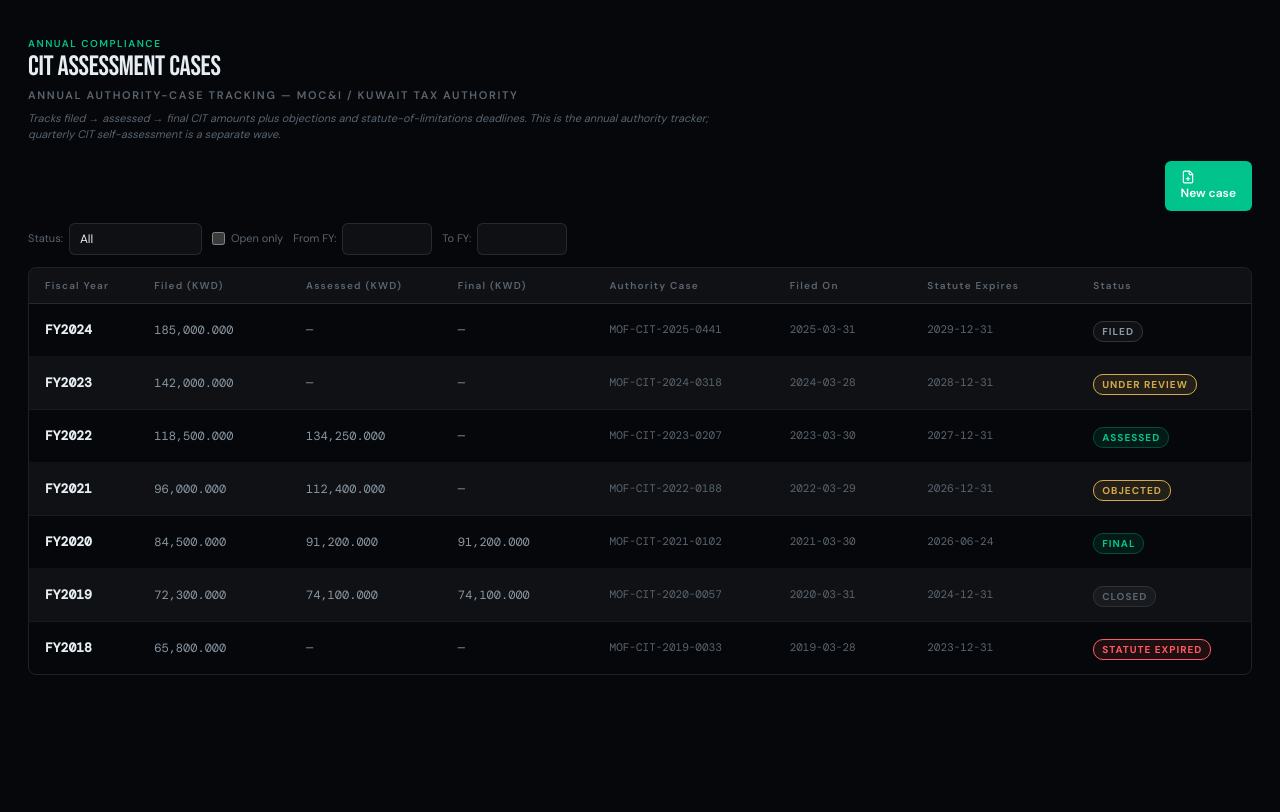
it: CITAssessmentScreen — per-case detail › ASSESSED: shows Record Objection + Finalize
Click the button with aria-label "Open case" at (640, 436), box 29,410 -> 1251,462
(page scrolled)
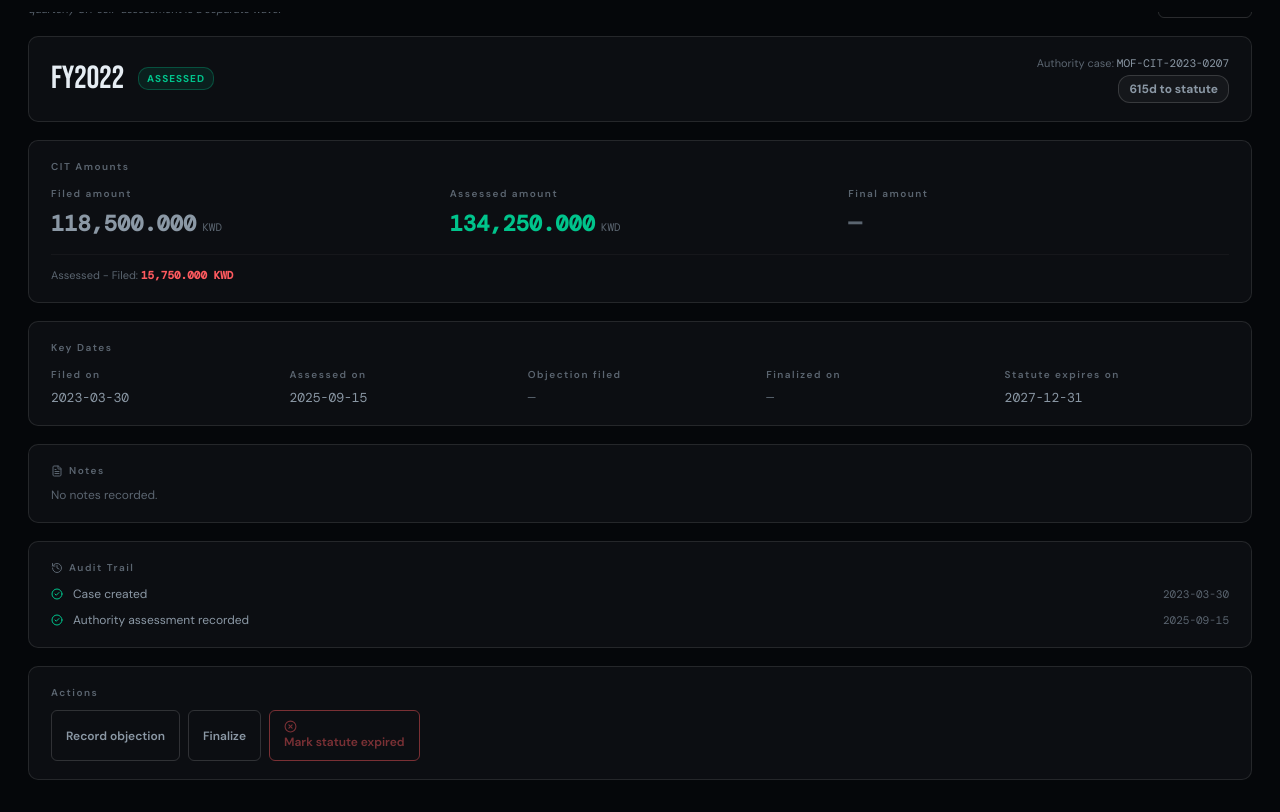
Check: the element with test id "cit-detail-view" is shown
Check: the button with test id "cit-action-record-objection" is shown, box 51,710 -> 180,761
Check: the button with test id "cit-action-finalize" is shown, box 188,710 -> 261,761
